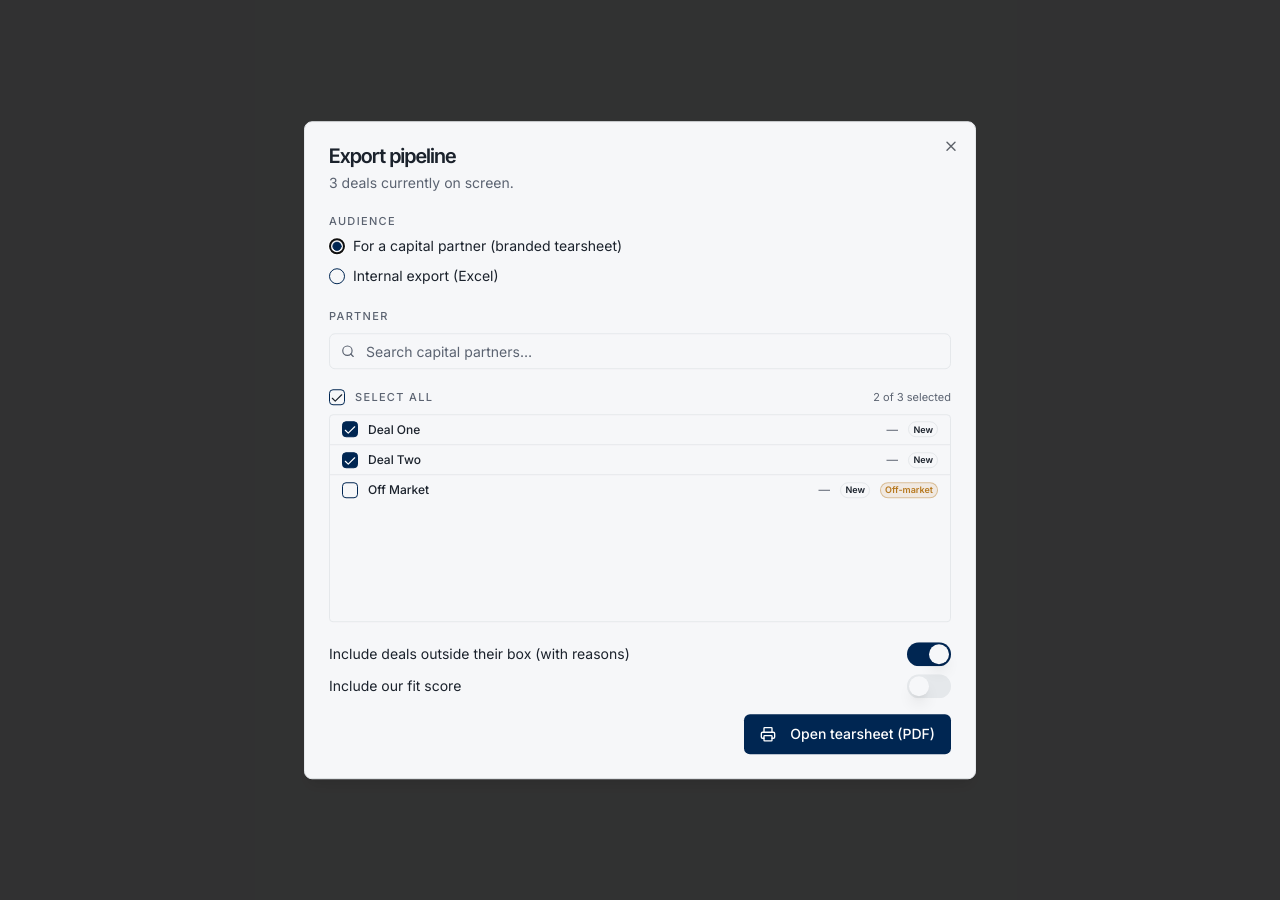
ExportPipelineDialog select-all › select-all checks every deal, updates count, and shows amber warning
The image size is (1280, 900).
Click the checkbox named "Select all deals" at coordinates (337, 398), box [329, 390, 345, 406]
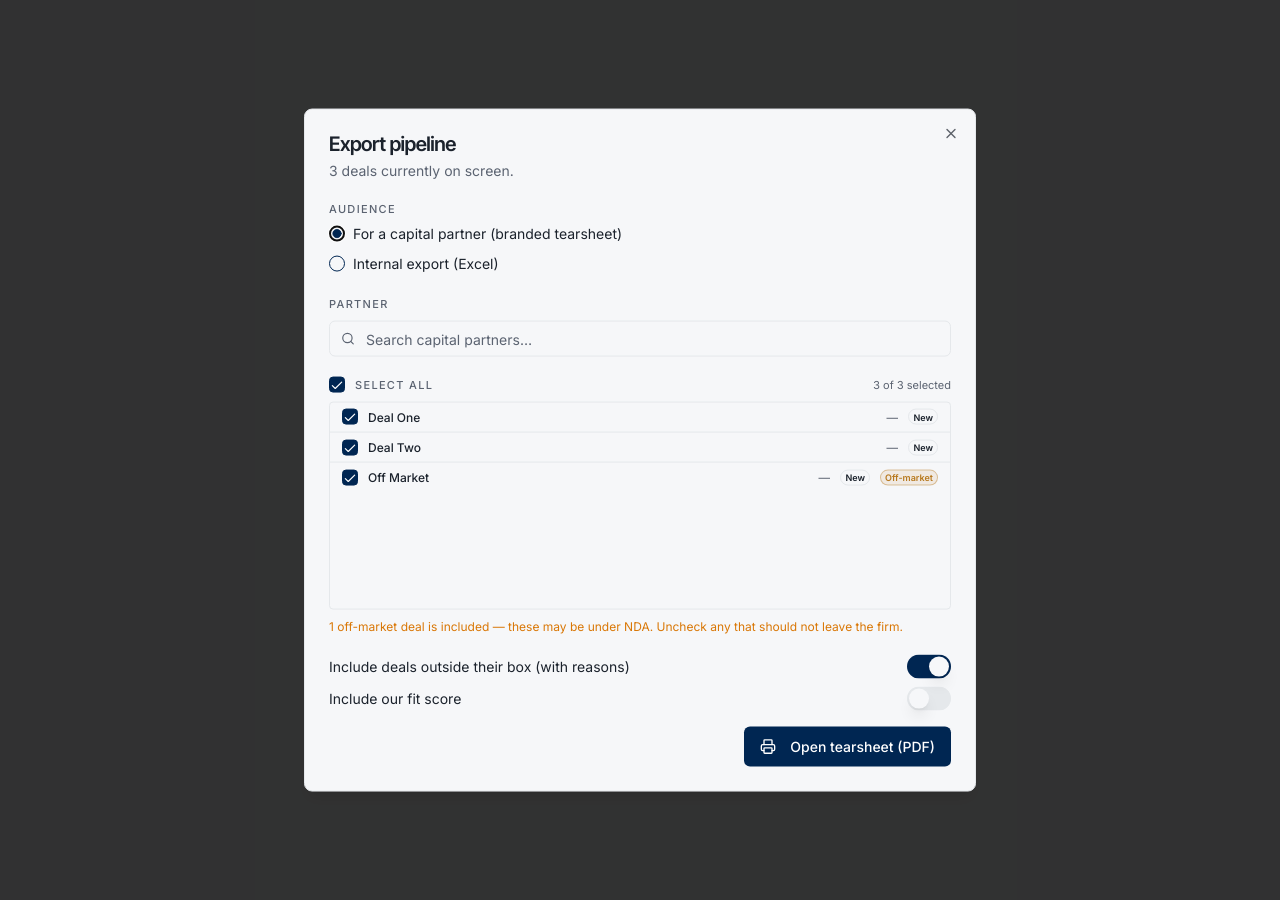
Now the text "3 of 3 selected" is shown, box [873, 377, 951, 393]
Now the text "1 off-market deal is included" is shown, box [329, 617, 951, 634]
